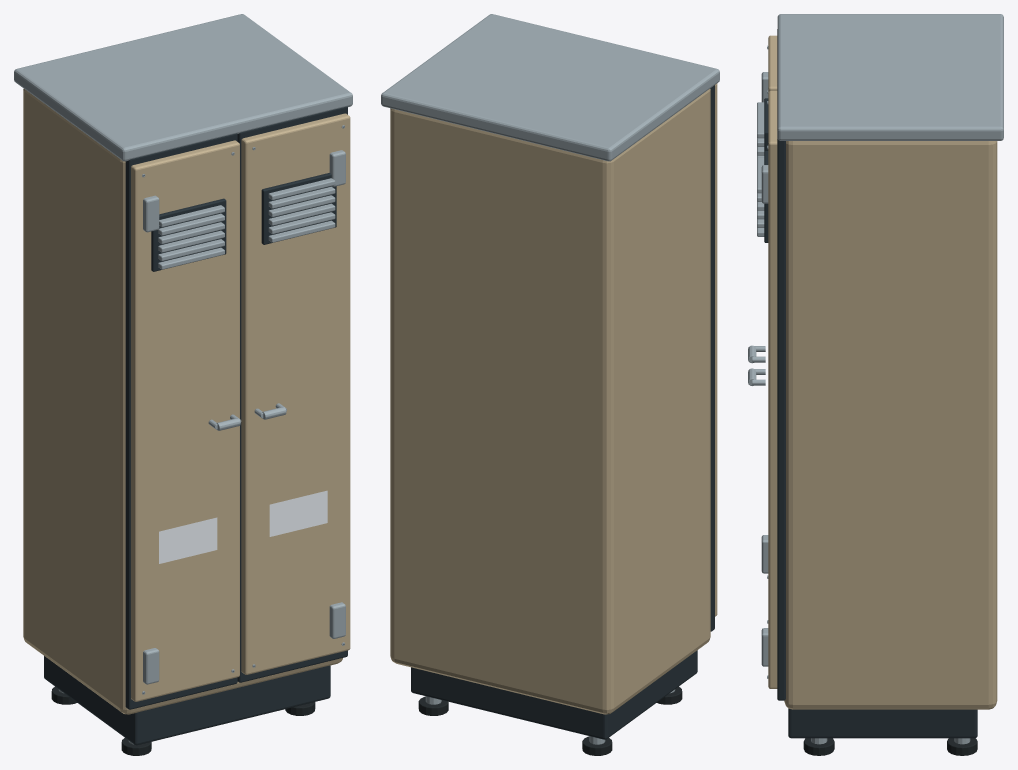
The model's file is SF_PersonalLocker.fbx.
The picture shows the model from 3 angles, left to right: view 1: azimuth 30°, elevation 25°; view 2: azimuth 150°, elevation 25°; view 3: azimuth 270°, elevation 25°; orthographic projection. The views are drawn at different scales.
Parts seen in each view (by area): view 1: SF_PersonalLocker; view 2: SF_PersonalLocker; view 3: SF_PersonalLocker.
Boxes of the visible parts, left/top/right/bottom form: SF_PersonalLocker: left=14, top=14, right=352, bottom=755; SF_PersonalLocker: left=381, top=14, right=719, bottom=755; SF_PersonalLocker: left=748, top=14, right=1003, bottom=755.
Bounding box in the file's own units: 70.5 × 182 × 66.12.
